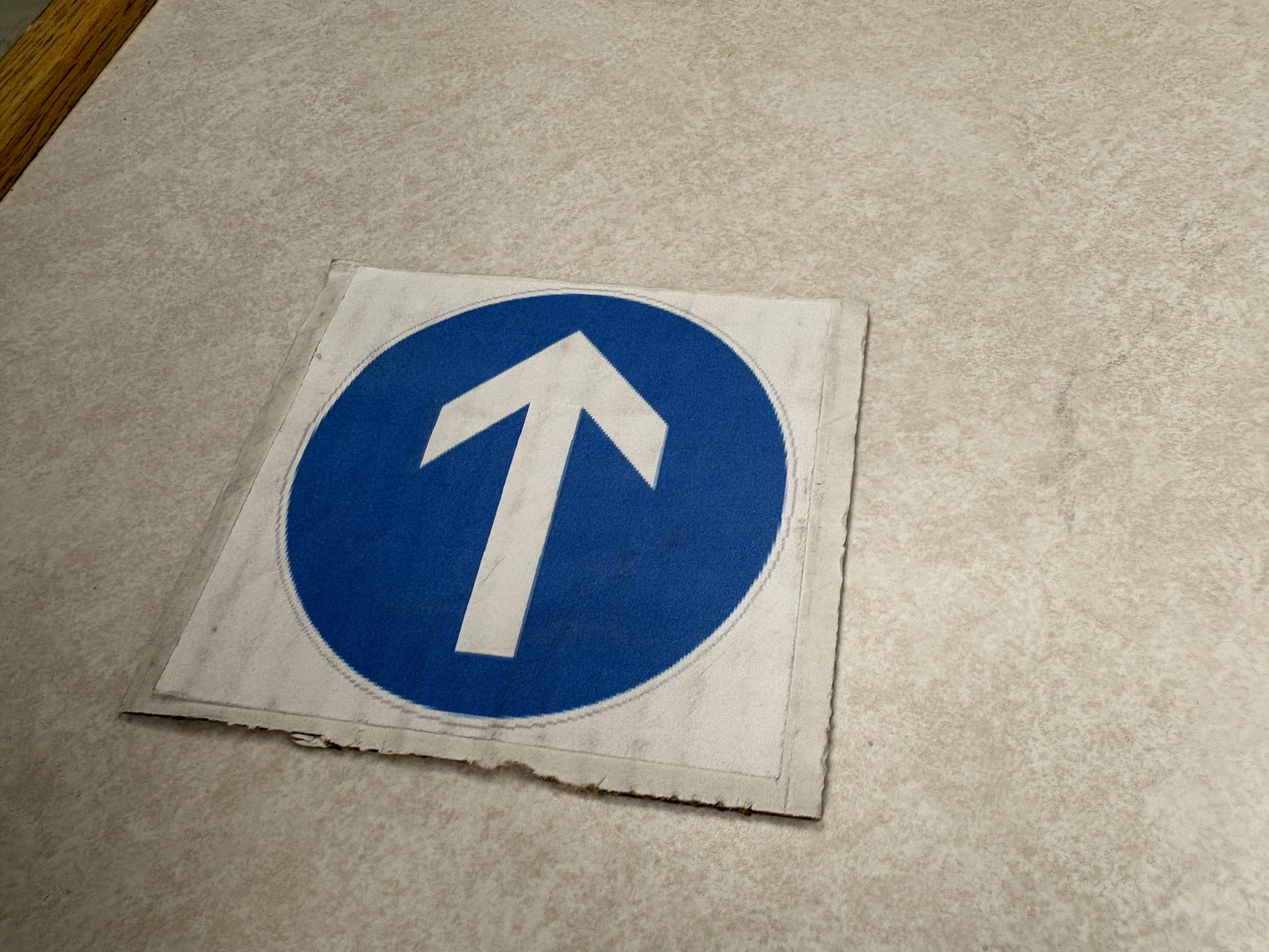Proceed Forward: (115, 258, 870, 822)
